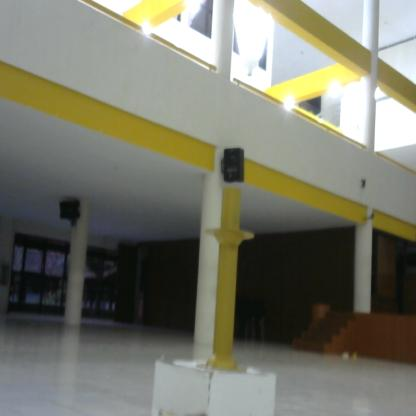pole: (193, 188, 261, 381)
